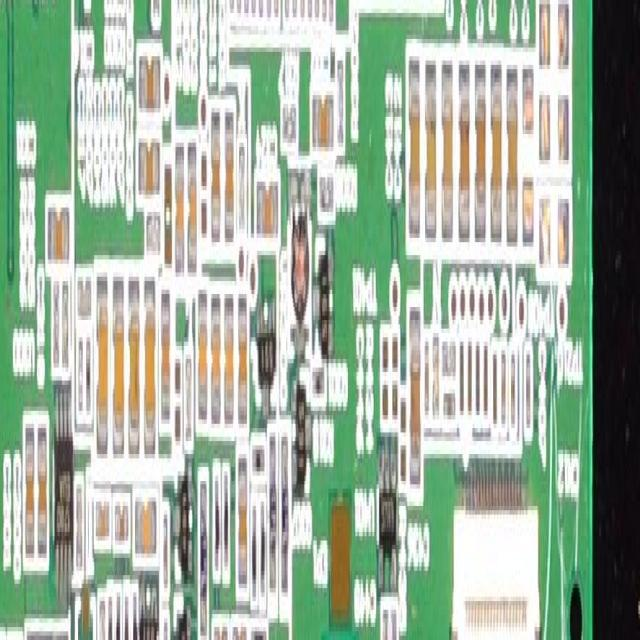IC: (54, 398, 71, 595), (377, 450, 398, 584)
capacitor: (538, 91, 570, 175), (538, 190, 570, 272), (407, 48, 421, 232), (112, 272, 125, 457), (538, 0, 568, 74), (96, 272, 108, 457), (474, 65, 486, 231), (522, 74, 534, 238), (129, 281, 140, 459), (442, 65, 453, 240), (145, 281, 156, 452), (458, 60, 469, 230), (508, 65, 518, 244), (410, 307, 420, 486), (426, 56, 436, 234), (492, 74, 502, 238), (138, 48, 160, 122), (46, 203, 69, 270), (237, 454, 248, 591), (24, 420, 34, 566), (36, 420, 46, 563), (137, 138, 161, 196), (310, 95, 334, 150), (174, 138, 184, 262), (210, 294, 220, 418), (161, 286, 170, 422), (256, 173, 278, 228), (198, 290, 207, 424), (225, 112, 234, 238), (224, 294, 233, 416), (135, 502, 156, 554), (212, 108, 220, 239), (380, 329, 390, 431), (188, 142, 196, 262), (239, 298, 246, 415), (94, 502, 110, 545), (162, 502, 169, 595), (442, 385, 456, 428), (509, 350, 516, 430), (381, 605, 397, 640), (492, 346, 499, 422), (483, 337, 489, 422), (115, 502, 128, 540), (466, 338, 472, 420), (475, 342, 481, 423), (432, 337, 438, 415), (78, 333, 83, 414), (424, 338, 429, 418), (501, 346, 506, 426), (527, 355, 532, 434), (78, 281, 90, 313), (459, 337, 463, 424), (98, 592, 105, 640), (214, 618, 228, 640), (231, 622, 247, 640), (322, 0, 326, 26), (235, 0, 241, 17), (266, 0, 272, 17), (316, 0, 320, 22), (328, 0, 333, 17), (292, 0, 297, 17), (306, 0, 312, 9), (284, 0, 288, 13), (252, 0, 256, 13), (274, 0, 279, 9), (300, 0, 305, 9), (259, 0, 263, 9), (244, 0, 249, 4), (229, 0, 233, 4)
connector: (451, 506, 539, 640)
resistor: (61, 281, 70, 371), (337, 56, 345, 148), (51, 281, 59, 373), (442, 328, 457, 376), (319, 169, 334, 211), (282, 108, 298, 147), (238, 147, 245, 234), (185, 350, 191, 443), (252, 436, 266, 474), (201, 156, 207, 240), (174, 354, 180, 437), (86, 329, 91, 410), (401, 402, 406, 481), (393, 337, 397, 420), (163, 609, 168, 640)
transistor: (312, 247, 334, 367), (256, 303, 277, 418), (293, 380, 311, 486), (174, 480, 193, 578), (140, 584, 157, 640), (173, 609, 191, 640)
